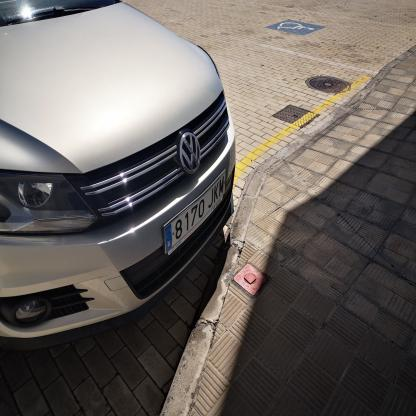patente: (165, 172, 226, 254)
